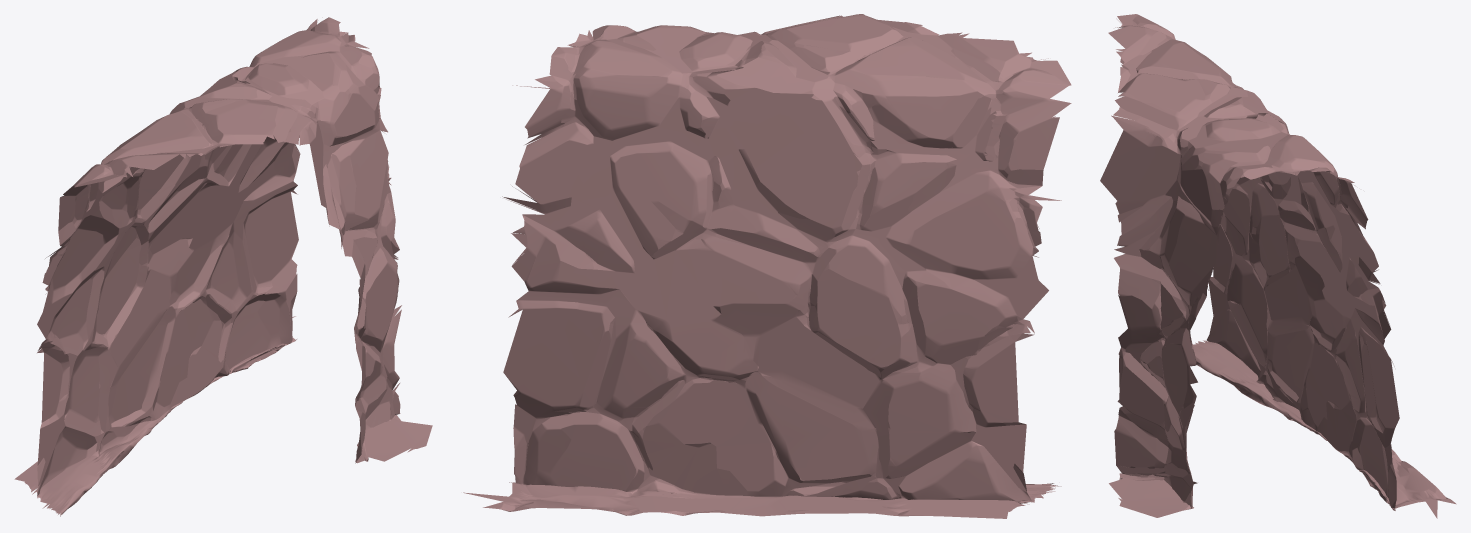
File: cliff_area_2.fbx_Cliff_Area_2_005LODs.fbx
3 renders of one model, left to right at view 1: azimuth 30°, elevation 25°; view 2: azimuth 150°, elevation 25°; view 3: azimuth 270°, elevation 25°, orthographic. The views are drawn at different scales.
Visible parts, largest first — view 1: Cliff Area 2.005_LOD0; view 2: Cliff Area 2.005_LOD0; view 3: Cliff Area 2.005_LOD0.
Boxes of the visible parts, x1,y1,x2,y2 form: Cliff Area 2.005_LOD0: [14, 17, 432, 516]; Cliff Area 2.005_LOD0: [463, 14, 1071, 518]; Cliff Area 2.005_LOD0: [1100, 14, 1456, 518].
Size of what is drawn, in the model's own units: 4485 by 3925 by 3653.
